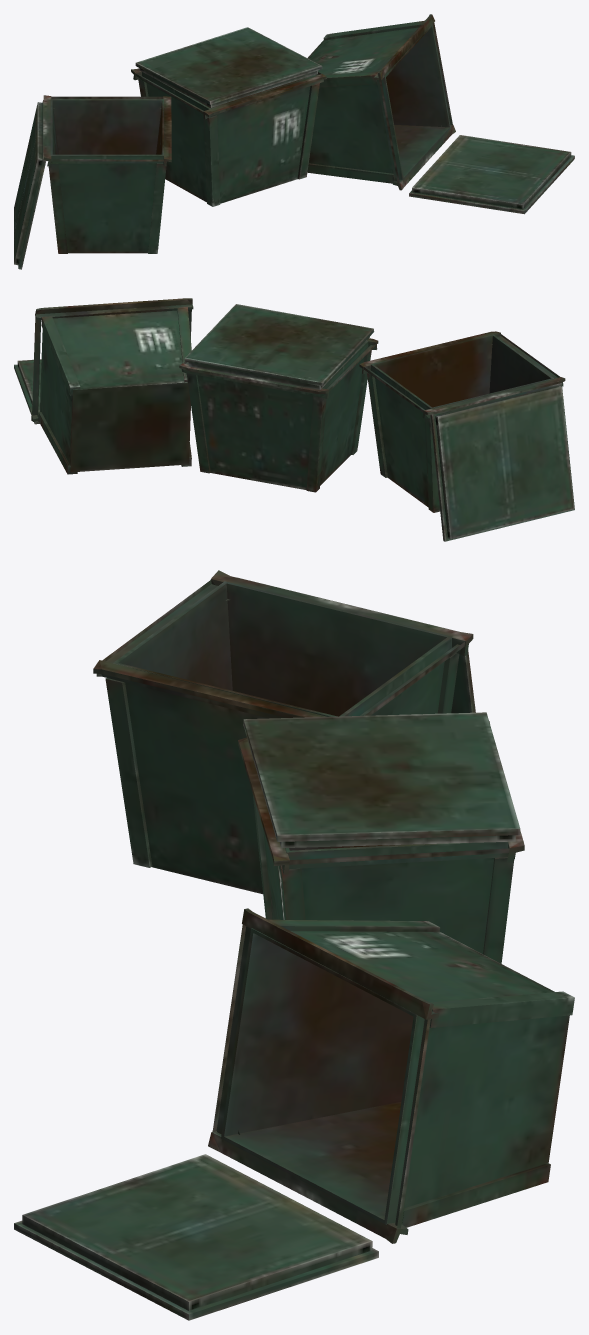
Rendered from trash-cans.lod0.glb.
3 views of the same model, one above another, from view 1: azimuth 30°, elevation 25°; view 2: azimuth 150°, elevation 25°; view 3: azimuth 270°, elevation 25° (orthographic). The views are drawn at different scales.
Parts seen in each view (by area): view 1: trash_can_finish1_trash_can_mat_0; view 2: trash_can_finish1_trash_can_mat_0; view 3: trash_can_finish1_trash_can_mat_0.
Boxes of the visible parts, bbox=[...] form: trash_can_finish1_trash_can_mat_0: bbox=[14, 14, 574, 269]; trash_can_finish1_trash_can_mat_0: bbox=[14, 298, 574, 541]; trash_can_finish1_trash_can_mat_0: bbox=[14, 570, 574, 1320].
Size of the model in its own units: 4.11 by 0.9668 by 1.86.
Materials: 1 (1 with a texture image).
